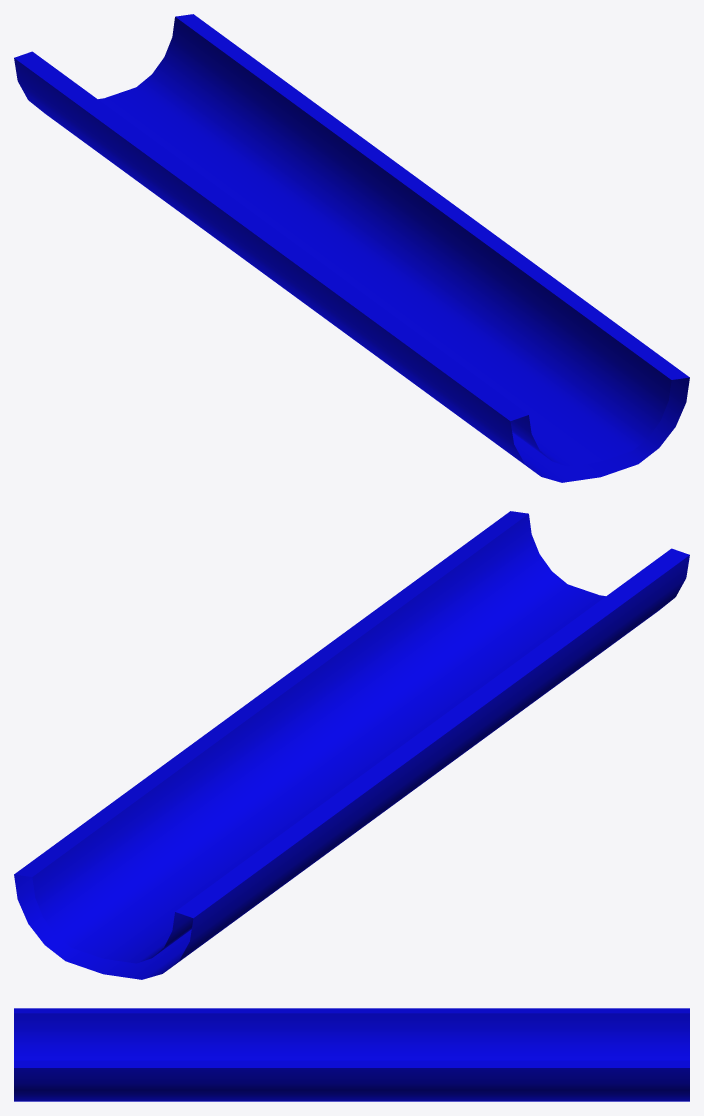
Rendered from Extruded_Connector_Pipe_Straight_Vein.fbx.
3 views of the same model, one above another, from view 1: azimuth 30°, elevation 25°; view 2: azimuth 150°, elevation 25°; view 3: azimuth 270°, elevation 25° (orthographic). The views are drawn at different scales.
Parts seen in each view (by area): view 1: pPipe20; view 2: pPipe20; view 3: pPipe20.
Boxes of the visible parts, x1,y1,x2,y2 form: pPipe20: [14, 14, 689, 482]; pPipe20: [14, 511, 689, 979]; pPipe20: [14, 1008, 689, 1101].
Bounding box in the file's own units: 2.41 × 1.02 × 11.54.
